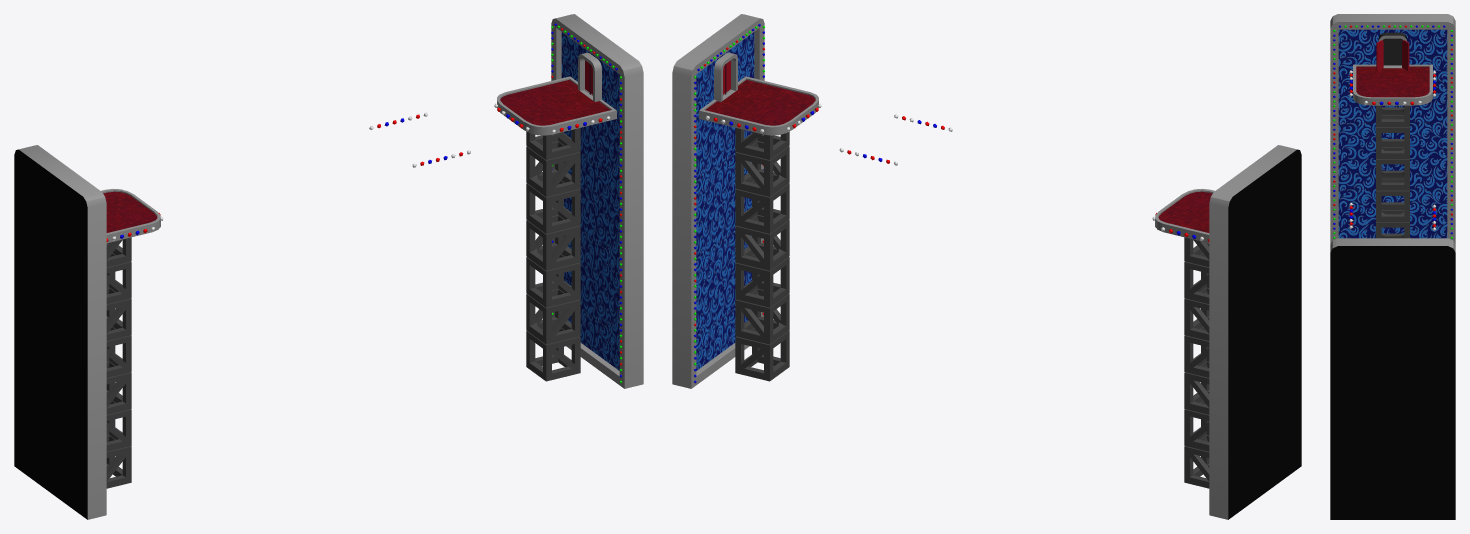
File: GlassSceneEnvironment.fbx
3 renders of one model, left to right at view 1: azimuth 30°, elevation 25°; view 2: azimuth 150°, elevation 25°; view 3: azimuth 270°, elevation 25°, orthographic. The views are drawn at different scales.
Parts seen in each view (by area): view 1: Box001, Box023, Box027, Box002, Box019, Box017, Box015, Box018, Box016, Box020, Box014, Box008 (+6 smaller); view 2: Box001, Box023, Box027, Box002, Box019, Box017, Box015, Box020, Box018, Box016, Box014, Box006 (+6 smaller); view 3: Box023, Box001, Box002, Box007, Box006, Box005, Box003, Box004, Box008, Box024, Box025.
Part boxes in pixels (x1,y1,x2,y2): Box001: [14, 145, 106, 519]; Box023: [551, 14, 643, 388]; Box027: [497, 76, 616, 135]; Box002: [101, 188, 160, 243]; Box019: [526, 288, 580, 344]; Box017: [526, 215, 580, 270]; Box015: [526, 141, 580, 196]; Box018: [526, 254, 580, 307]; Box016: [526, 180, 580, 233]; Box020: [526, 328, 580, 381]; Box014: [526, 128, 580, 159]; Box008: [106, 361, 131, 414]; Box001: [1209, 145, 1301, 519]; Box023: [672, 14, 764, 388]; Box027: [699, 76, 818, 135]; Box002: [1155, 188, 1214, 243]; Box019: [735, 288, 789, 344]; Box017: [735, 215, 789, 270]; Box015: [735, 141, 789, 196]; Box020: [735, 328, 789, 381]; Box018: [735, 254, 789, 307]; Box016: [735, 180, 789, 233]; Box014: [735, 128, 789, 159]; Box006: [1184, 287, 1209, 340]; Box023: [1330, 238, 1455, 519]; Box001: [1330, 14, 1455, 244]; Box002: [1353, 64, 1432, 105]; Box007: [1376, 178, 1409, 222]; Box006: [1376, 147, 1409, 190]; Box005: [1376, 115, 1409, 158]; Box003: [1378, 32, 1407, 68]; Box004: [1376, 105, 1409, 127]; Box008: [1376, 210, 1409, 238]; Box024: [1376, 40, 1383, 71]; Box025: [1402, 40, 1409, 71].
Size of the model in its own units: 342 by 188 by 77.93.
22 materials, 2 textured.
